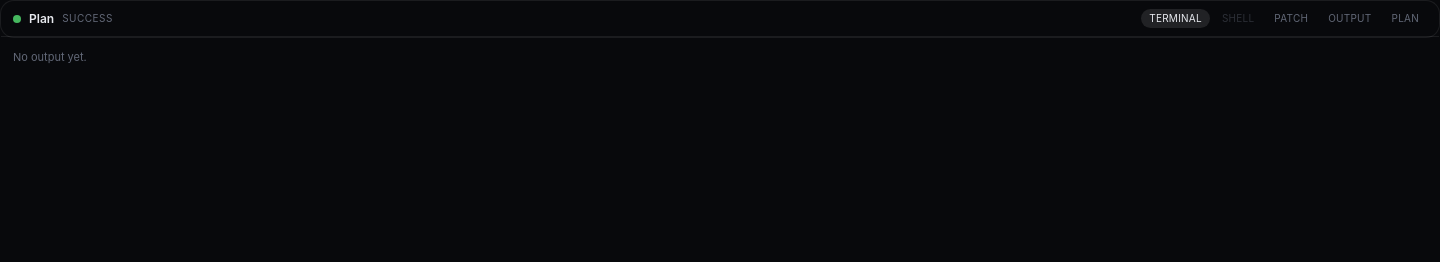
Test: RunTerminal — shell tab gating › renders applied Plan proposal state distinctly
Click the button "plan" at (1405,18), box [1384, 9, 1427, 28]
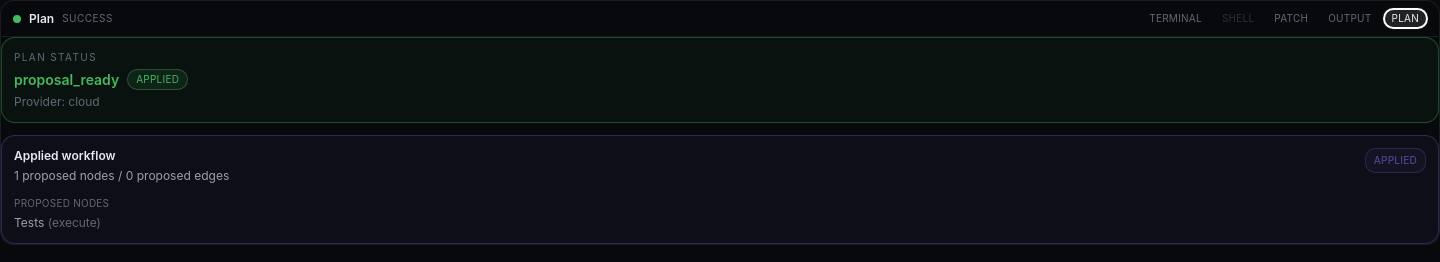
Check: the button "Applied" is disabled, box [1365, 148, 1426, 173]
